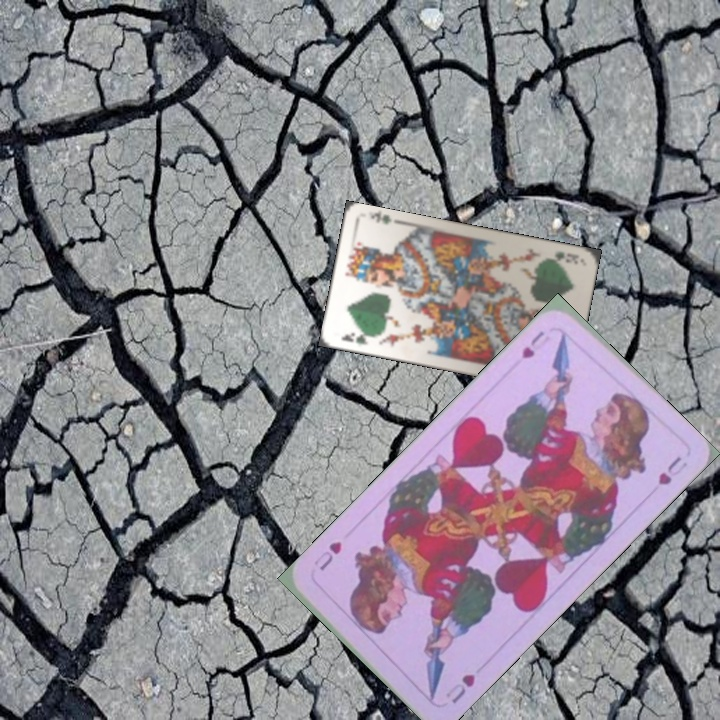GK: (337, 328, 376, 347), (551, 247, 582, 266)
HU: (441, 669, 478, 706), (517, 326, 547, 361)
